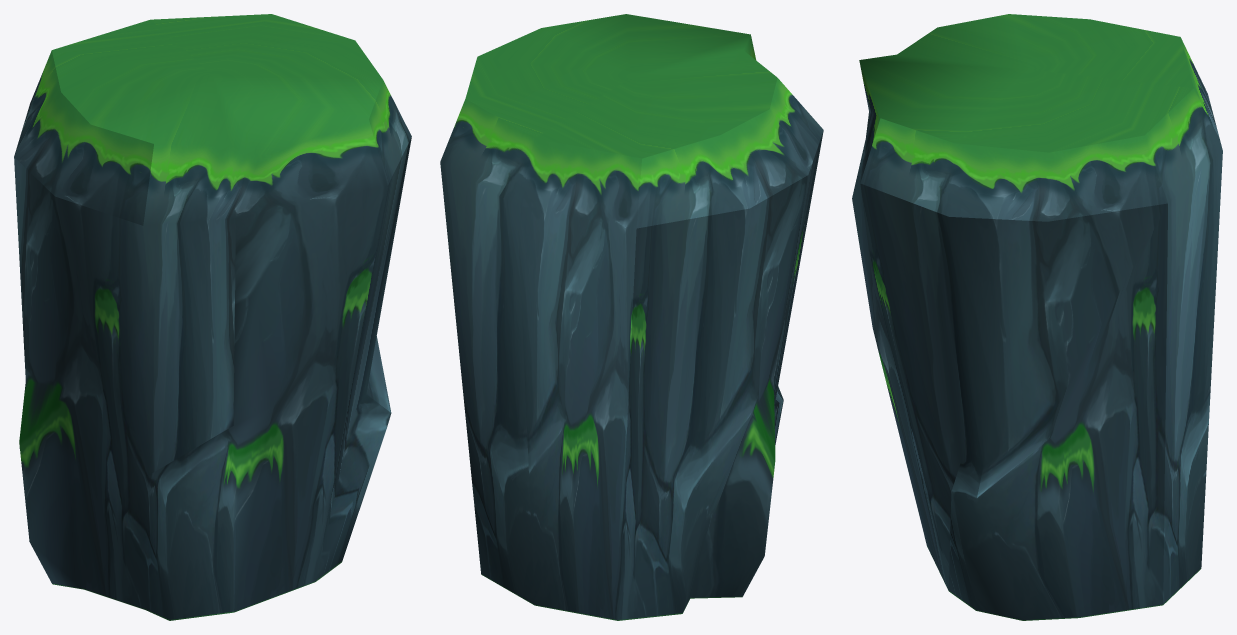
Rendered from rc_01_budA_16.FBX.
3 views of the same model, side by side, from view 1: azimuth 30°, elevation 25°; view 2: azimuth 150°, elevation 25°; view 3: azimuth 270°, elevation 25° (orthographic). The views are drawn at different scales.
Visible parts, largest first — view 1: Box055; view 2: Box055; view 3: Box055.
Part boxes in pixels (<box>): Box055: <box>14,14,411,620</box>; Box055: <box>440,14,823,620</box>; Box055: <box>852,14,1222,620</box>.
Size of the model in its own units: 4336 by 4077 by 5957.
